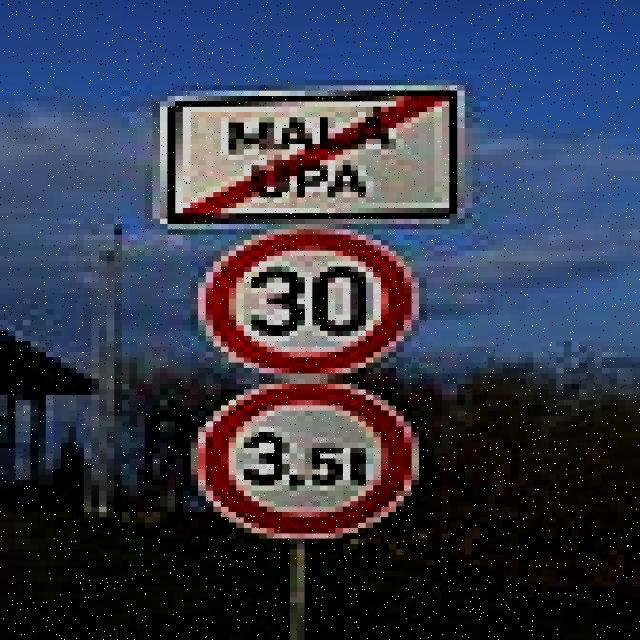Traffic sign: (146, 72, 476, 550)
